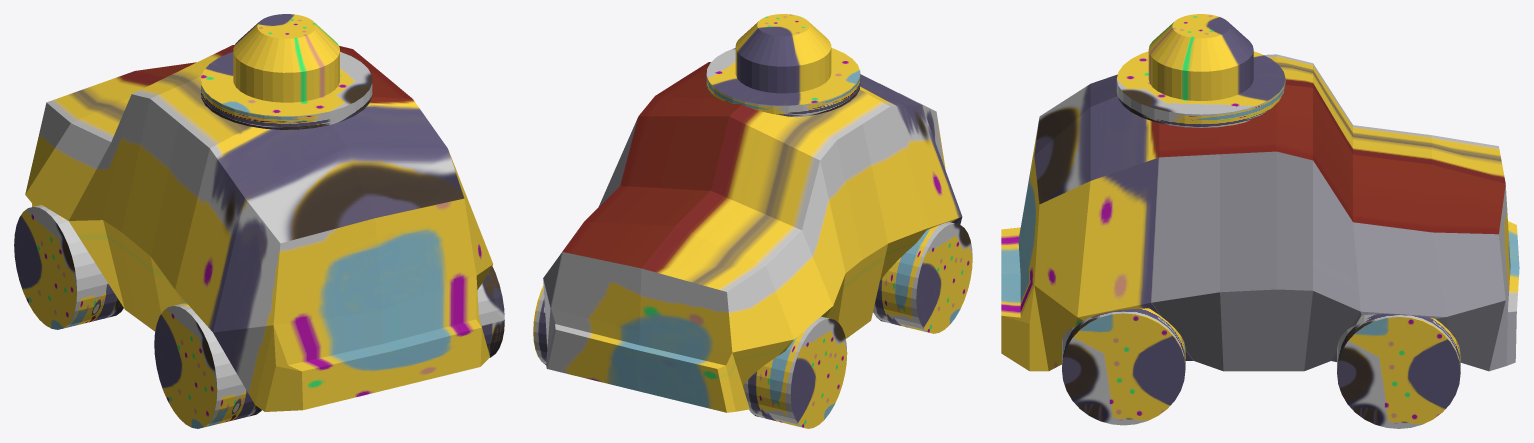
File: clown_car.obj
The picture shows the model from 3 angles, left to right: view 1: azimuth 30°, elevation 25°; view 2: azimuth 150°, elevation 25°; view 3: azimuth 270°, elevation 25°; orthographic projection. The views are drawn at different scales.
Parts seen in each view (by area): view 1: Cube; view 2: Cube; view 3: Cube.
Part boxes in pixels (bbox=[...]): Cube: bbox=[14, 14, 504, 428]; Cube: bbox=[533, 14, 972, 428]; Cube: bbox=[1001, 14, 1519, 428].
Bounding box in the file's own units: 3.86 × 4.34 × 6.14.
